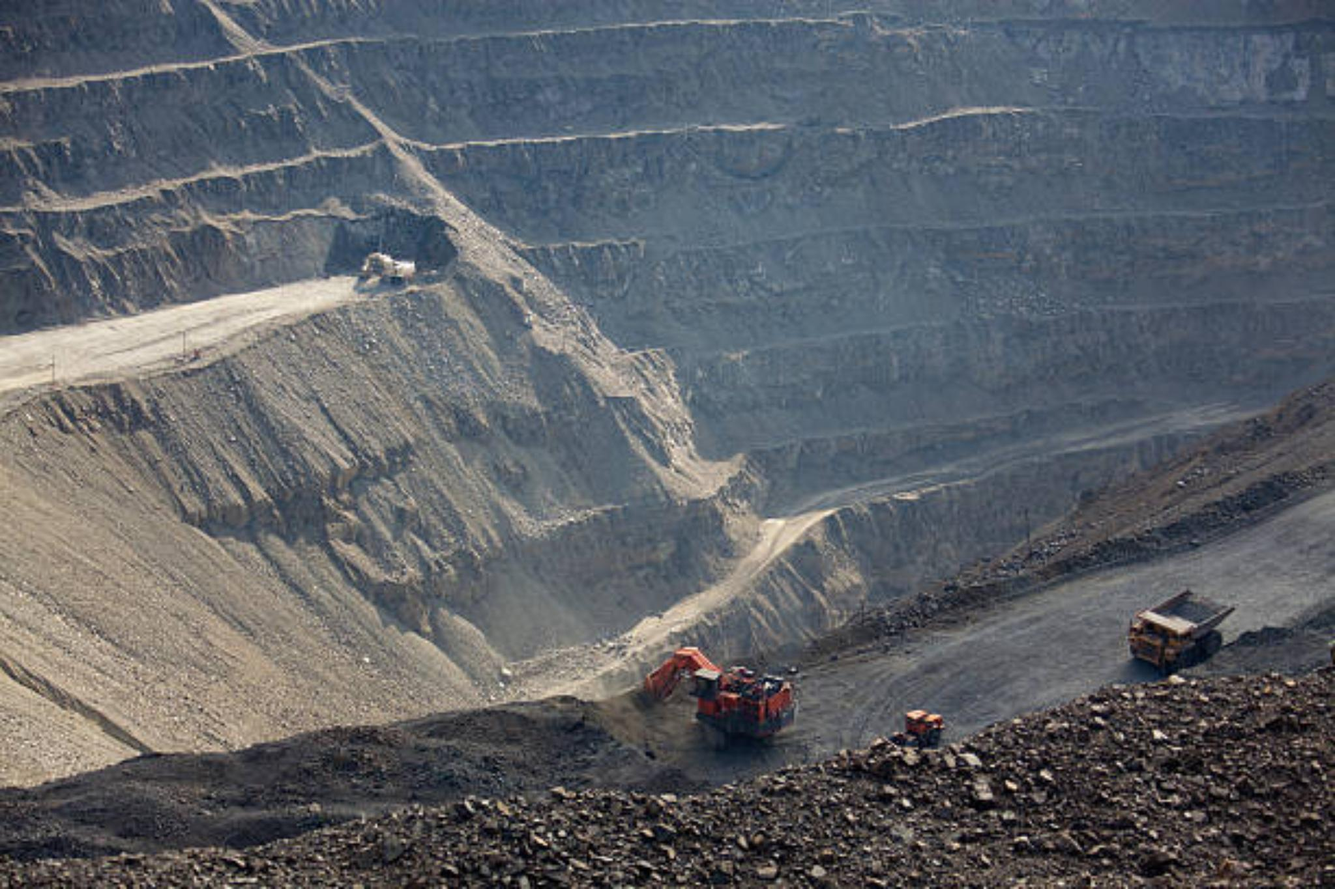excavator: (648, 650, 799, 743)
truck: (1130, 583, 1255, 662), (357, 254, 418, 287)
wall: (0, 0, 1333, 776)
